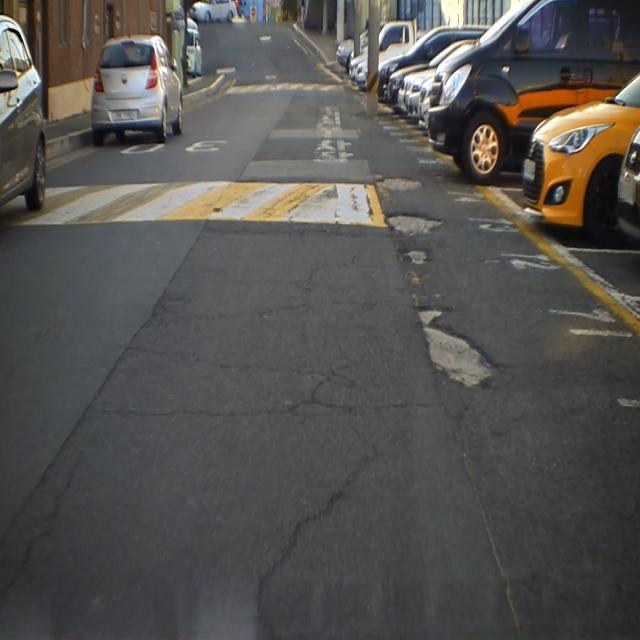Buraco: (411, 303, 503, 392), (383, 210, 449, 240), (370, 174, 427, 194), (393, 246, 434, 267)
